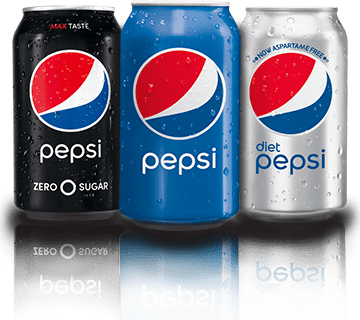pepsi: (130, 45, 226, 138), (245, 50, 333, 136), (247, 50, 333, 136), (26, 49, 110, 131)
